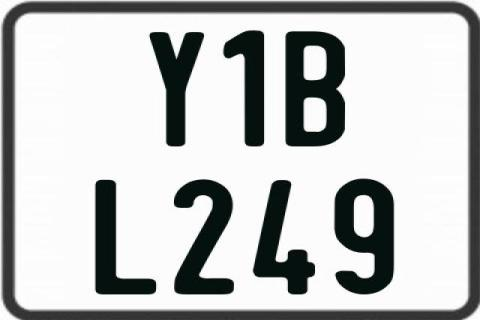0: (173, 178, 239, 294), (250, 177, 315, 293), (333, 177, 398, 293), (222, 30, 265, 150)
B: (285, 29, 347, 145)
L: (93, 177, 155, 293)
Y: (148, 32, 206, 150)
